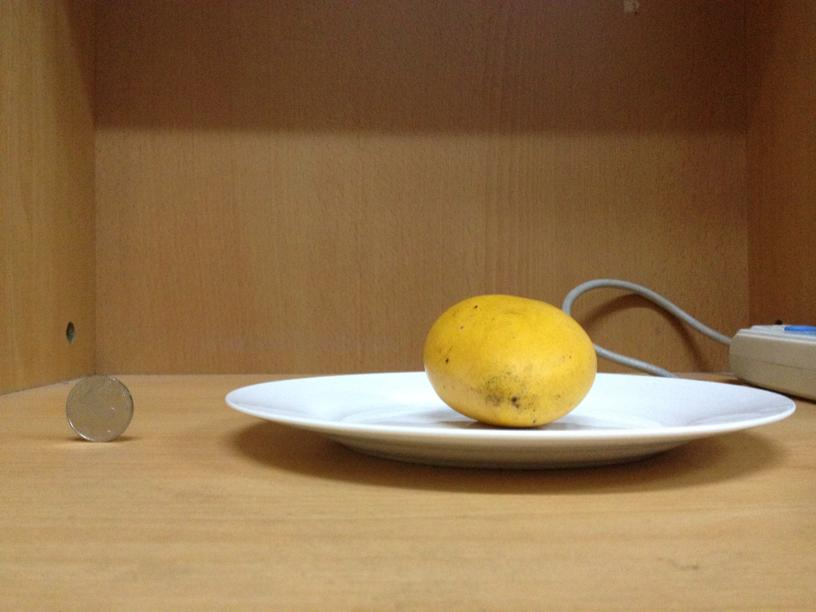coin: (63, 374, 135, 443)
mango: (423, 294, 598, 426)
